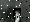person: (15, 6, 22, 22)
